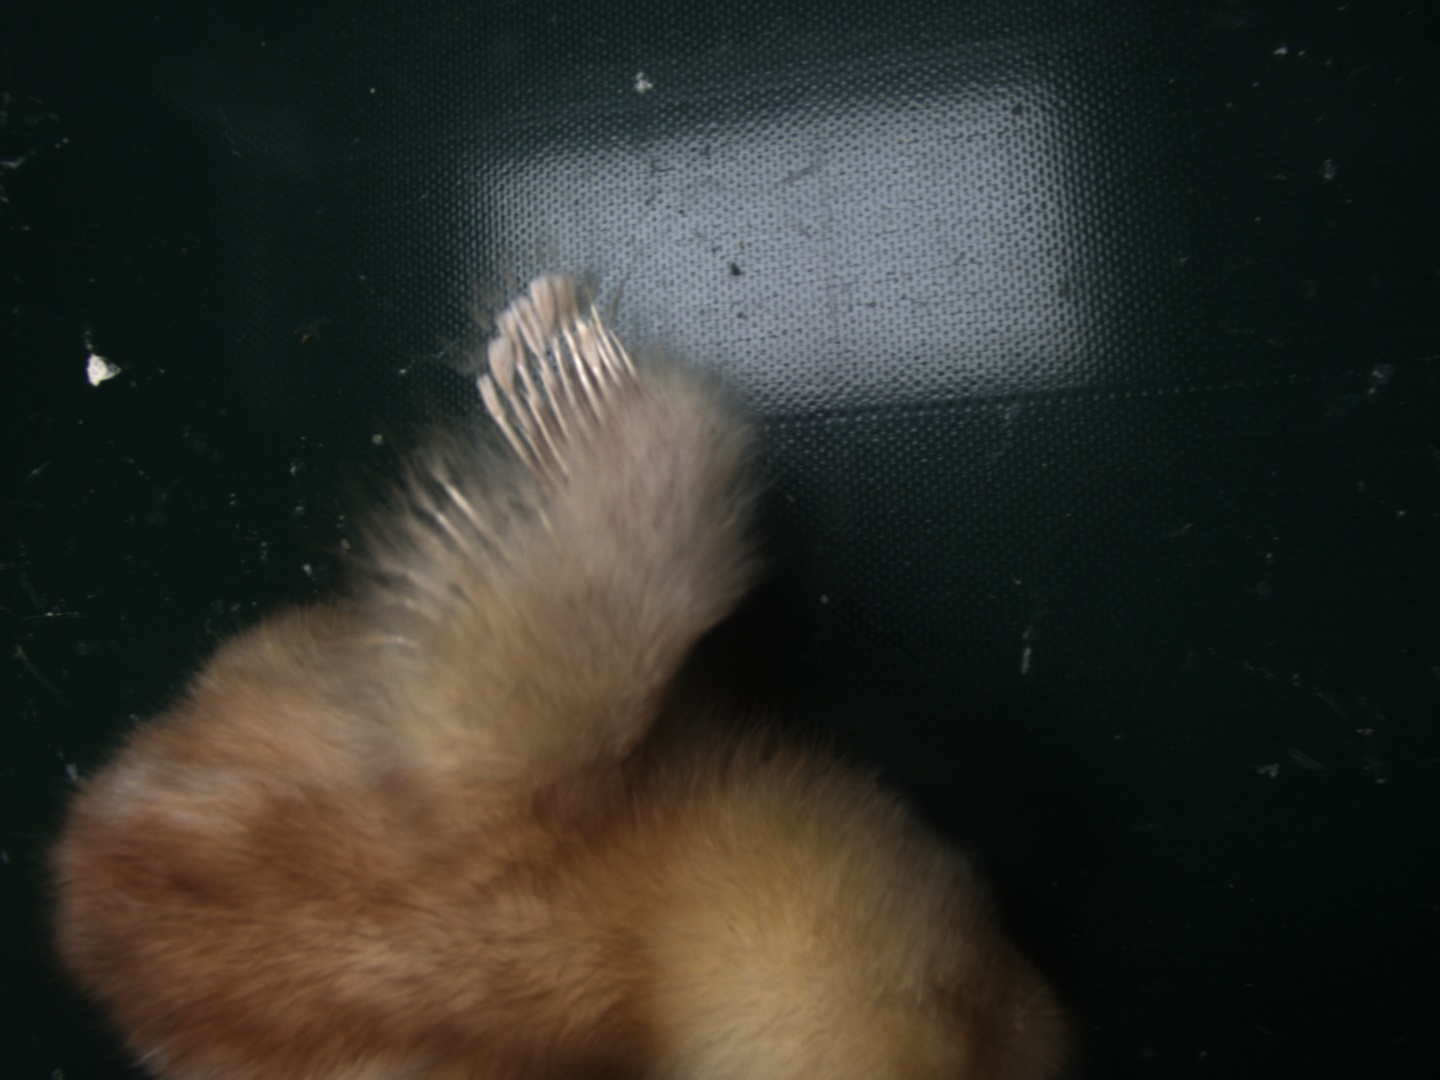female: (499, 305, 638, 479)
